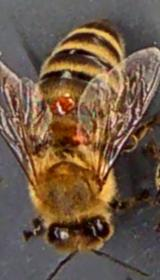varroa_mite: (45, 91, 78, 118)
